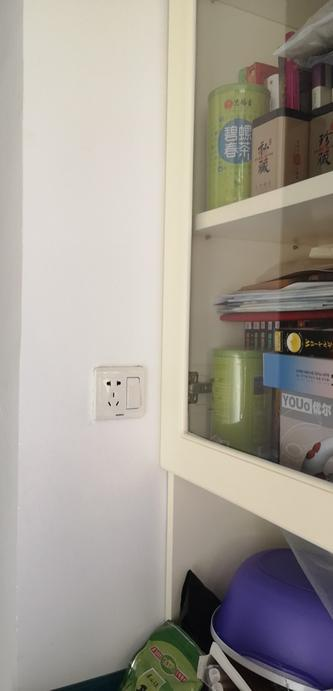switch: (130, 375, 142, 412)
